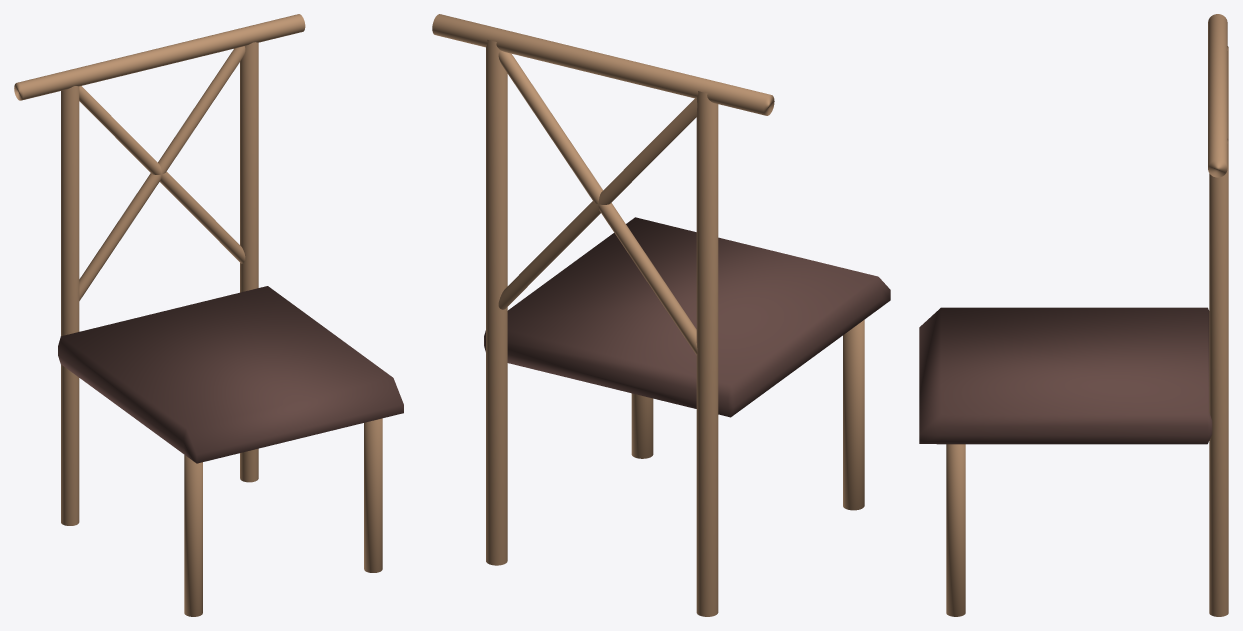
The picture shows the model from 3 angles, left to right: view 1: azimuth 30°, elevation 25°; view 2: azimuth 150°, elevation 25°; view 3: azimuth 270°, elevation 25°; orthographic projection. The views are drawn at different scales.
Parts seen in each view (by area): view 1: Cube, Cylinder.004, Cylinder.006, Cylinder.002, Cylinder.007, Cylinder, Cylinder.005, Cylinder.001; view 2: Cube, Cylinder.004, Cylinder.002, Cylinder.006, Cylinder.007, Cylinder.005, Cylinder, Cylinder.001; view 3: Cube, Cylinder.002, Cylinder.001, Cylinder.006.
Part boxes in pixels (left/top/right/bottom): Cube: left=58, top=286, right=403, bottom=463; Cylinder.004: left=61, top=86, right=79, bottom=525; Cylinder.006: left=14, top=14, right=305, bottom=100; Cylinder.002: left=240, top=42, right=258, bottom=482; Cylinder.007: left=79, top=46, right=245, bottom=300; Cylinder: left=184, top=455, right=202, bottom=616; Cylinder.005: left=79, top=86, right=245, bottom=263; Cylinder.001: left=364, top=418, right=382, bottom=572; Cube: left=484, top=217, right=890, bottom=417; Cylinder.004: left=696, top=91, right=718, bottom=616; Cylinder.002: left=486, top=40, right=507, bottom=565; Cylinder.006: left=432, top=14, right=774, bottom=115; Cylinder.007: left=498, top=50, right=697, bottom=355; Cylinder.005: left=498, top=98, right=697, bottom=309; Cylinder: left=843, top=320, right=864, bottom=510; Cylinder.001: left=631, top=393, right=653, bottom=458; Cube: left=919, top=307, right=1212, bottom=444; Cylinder.002: left=1209, top=138, right=1228, bottom=616; Cylinder.001: left=946, top=444, right=965, bottom=616; Cylinder.006: left=1208, top=14, right=1227, bottom=177.
Size of the model in its own units: 0.53 by 0.8118 by 0.4752.
